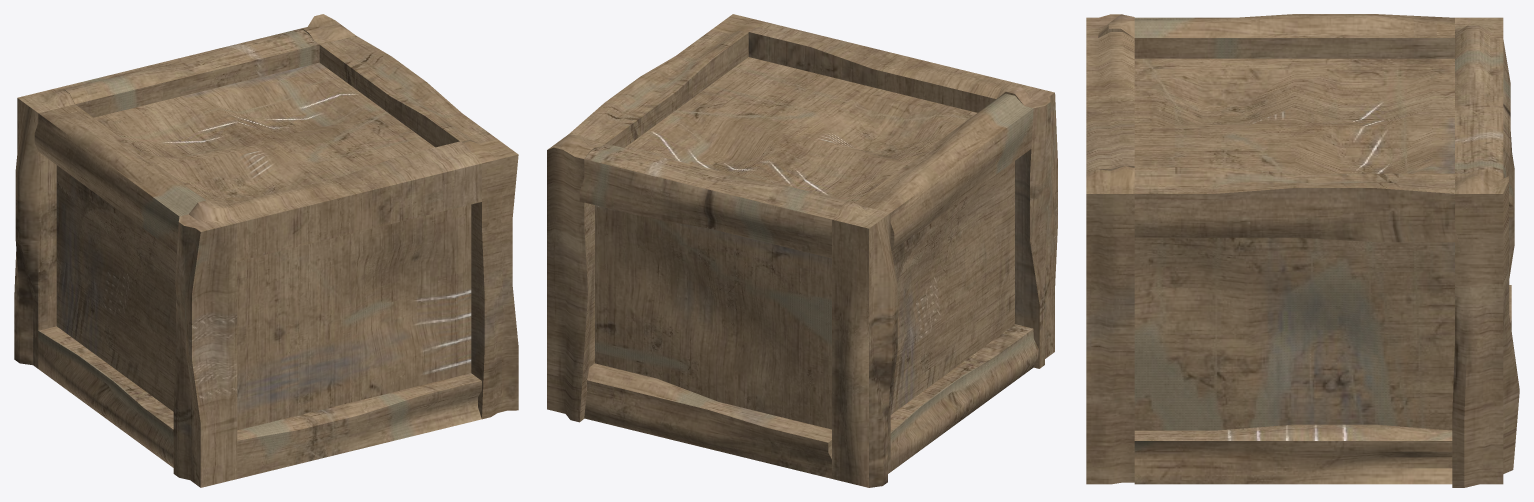
Rendered from uploads_files_3749067_box_fbx.fbx.
3 views of the same model, side by side, from view 1: azimuth 30°, elevation 25°; view 2: azimuth 150°, elevation 25°; view 3: azimuth 270°, elevation 25° (orthographic). The views are drawn at different scales.
Parts seen in each view (by area): view 1: Box; view 2: Box; view 3: Box.
Part boxes in pixels (x1,y1,x2,y2): Box: (14, 14, 518, 487); Box: (547, 14, 1057, 487); Box: (1086, 14, 1519, 487).
Bounding box in the file's own units: 280 × 209 × 270.
1 material, 1 textured.
